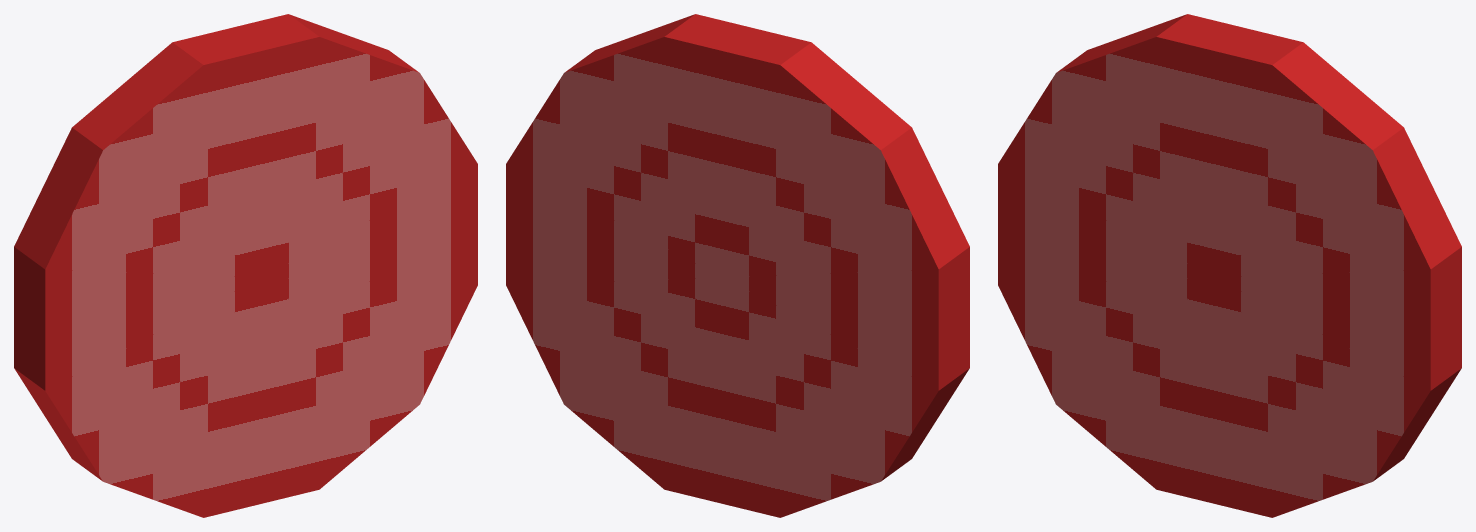
File: redcoin.gltf
3 renders of one model, left to right at view 1: azimuth 30°, elevation 25°; view 2: azimuth 150°, elevation 25°; view 3: azimuth 330°, elevation 25°, orthographic.
Parts seen in each view (by area): view 1: cylinder; view 2: cylinder; view 3: cylinder.
Part boxes in pixels (left/top/right/bottom): cylinder: left=14, top=14, right=477, bottom=517; cylinder: left=506, top=14, right=969, bottom=517; cylinder: left=998, top=14, right=1461, bottom=517.
Size of the model in its own units: 1 by 1 by 0.125.
1 material, 1 textured.
